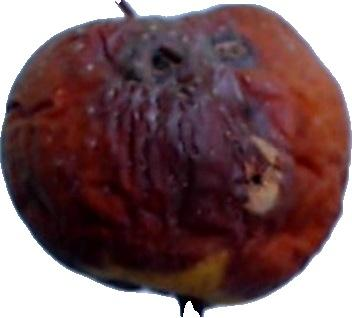Apple Overripe: (0, 0, 340, 296)
